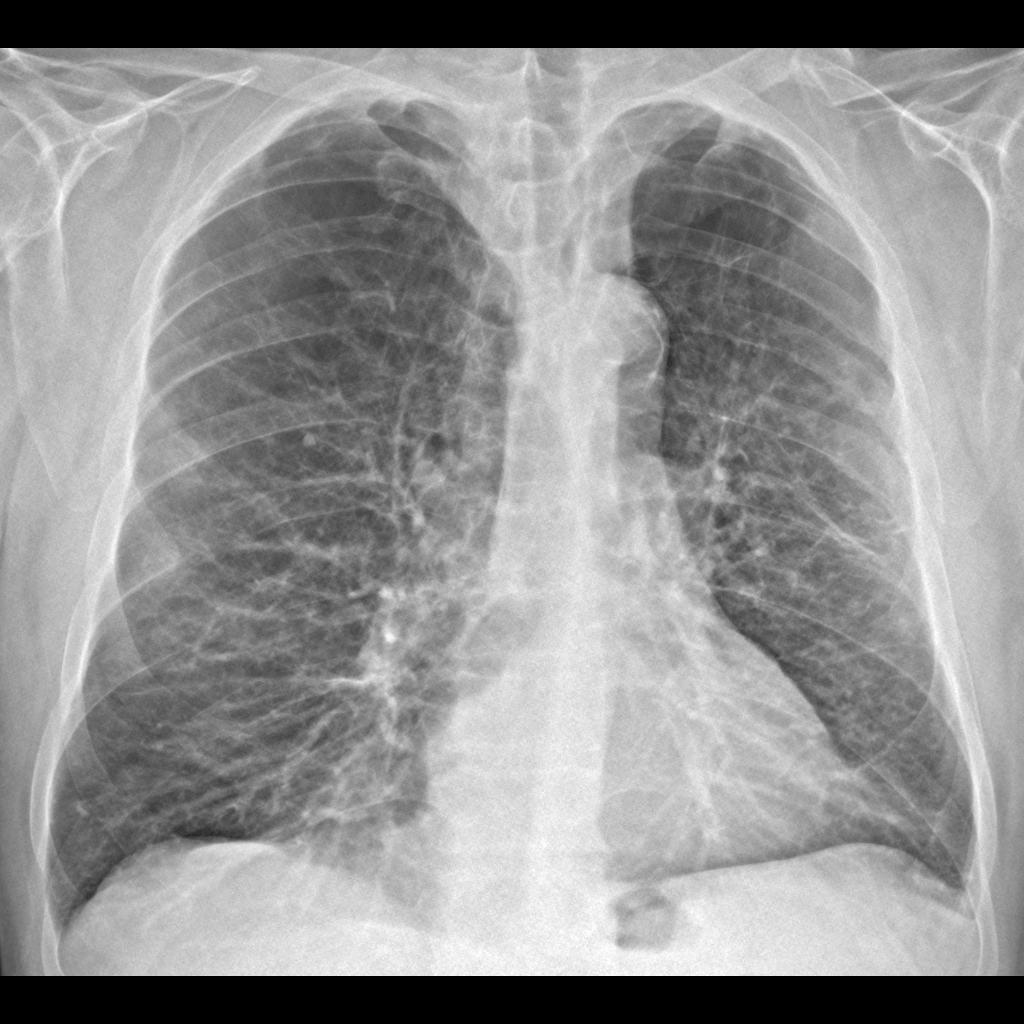Nodule: (139, 533, 185, 592)
